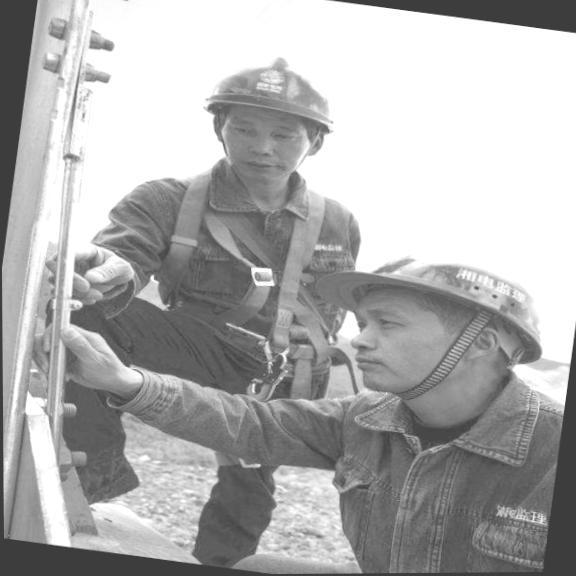no_safety_vest: (196, 347, 567, 575), (41, 138, 377, 364)
